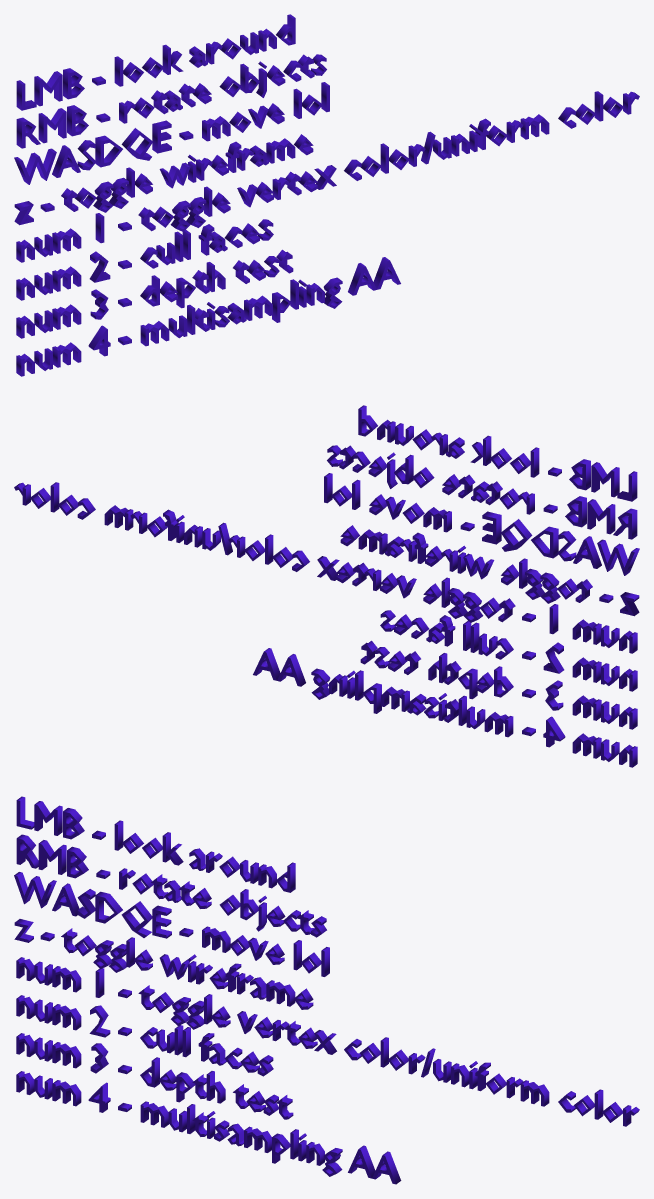
Rendered from cont.obj.
3 views of the same model, one above another, from view 1: azimuth 30°, elevation 25°; view 2: azimuth 150°, elevation 25°; view 3: azimuth 330°, elevation 25° (orthographic).
Visible parts, largest first — view 1: Text; view 2: Text; view 3: Text.
Part boxes in pixels (left/top/right/bottom): Text: left=14, top=14, right=639, bottom=376; Text: left=14, top=405, right=639, bottom=767; Text: left=14, top=796, right=639, bottom=1184.
Bounding box in the file's own units: 26.13 × 12.08 × 0.3757.
